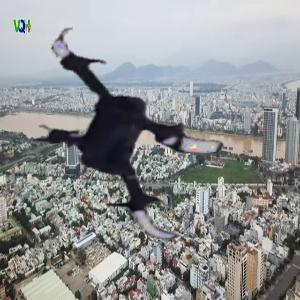drone: (16, 12, 257, 253)
